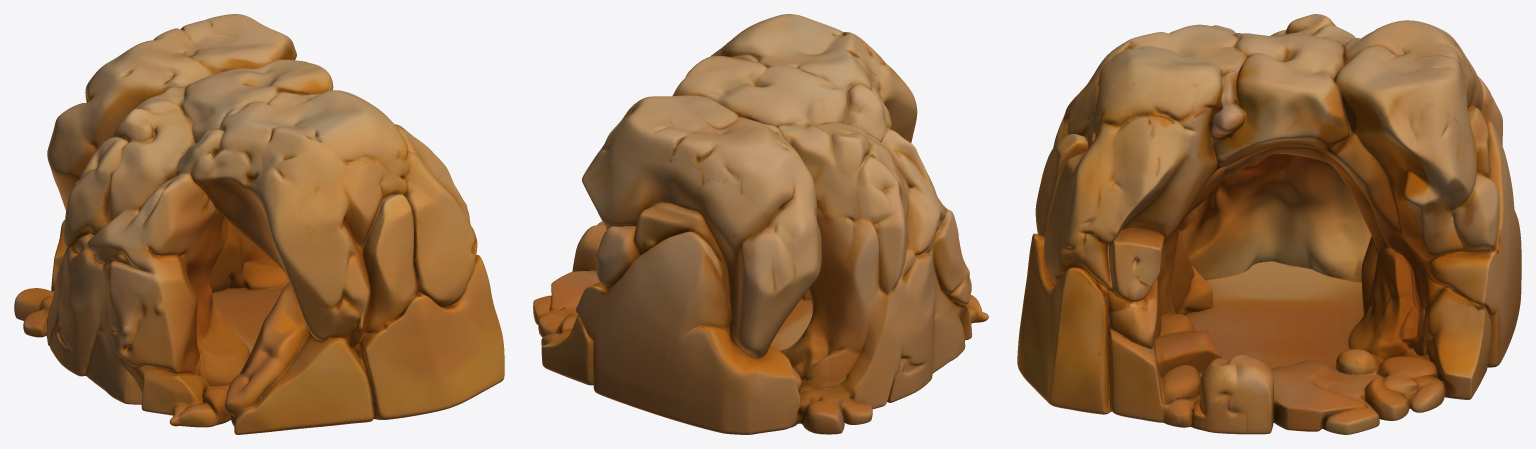
3 views of the same model, side by side, from view 1: azimuth 30°, elevation 25°; view 2: azimuth 150°, elevation 25°; view 3: azimuth 270°, elevation 25° (orthographic). The views are drawn at different scales.
Parts seen in each view (by area): view 1: tripo_node_bdbfd2da-19c7-44df-b27e-1428c649d56b; view 2: tripo_node_bdbfd2da-19c7-44df-b27e-1428c649d56b; view 3: tripo_node_bdbfd2da-19c7-44df-b27e-1428c649d56b.
Part boxes in pixels (box(x1,y1,x2,y2)): tripo_node_bdbfd2da-19c7-44df-b27e-1428c649d56b: box(14, 14, 504, 434); tripo_node_bdbfd2da-19c7-44df-b27e-1428c649d56b: box(533, 14, 988, 434); tripo_node_bdbfd2da-19c7-44df-b27e-1428c649d56b: box(1017, 14, 1521, 434).
Size of the model in its own units: 0.9309 by 0.6514 by 0.9999.
Materials: 1 (1 with a texture image).
